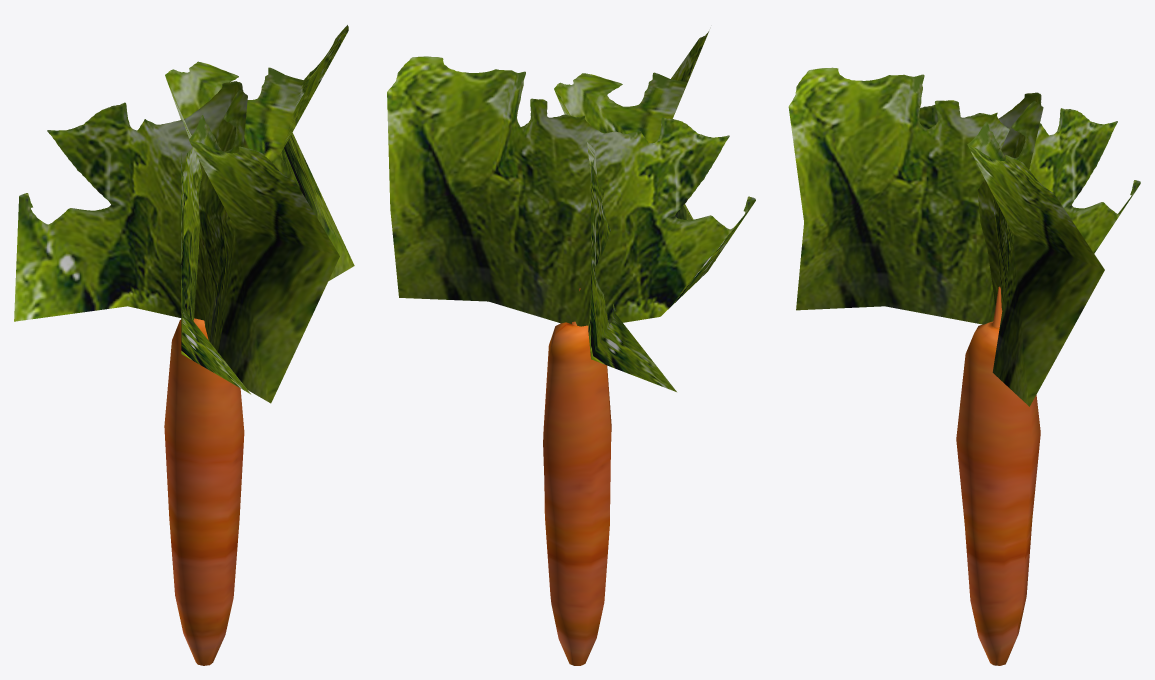
The model's file is carrot.obj.
3 renders of one model, left to right at view 1: azimuth 30°, elevation 25°; view 2: azimuth 150°, elevation 25°; view 3: azimuth 270°, elevation 25°, orthographic. The views are drawn at different scales.
Parts seen in each view (by area): view 1: Mesh; view 2: Mesh; view 3: Mesh.
Part boxes in pixels (box(x1,y1,x2,y2)): Mesh: box(14, 25, 354, 665); Mesh: box(387, 31, 755, 665); Mesh: box(788, 67, 1140, 665).
Bounding box in the file's own units: 1172 × 2158 × 1161.
2 materials, 2 textured.
